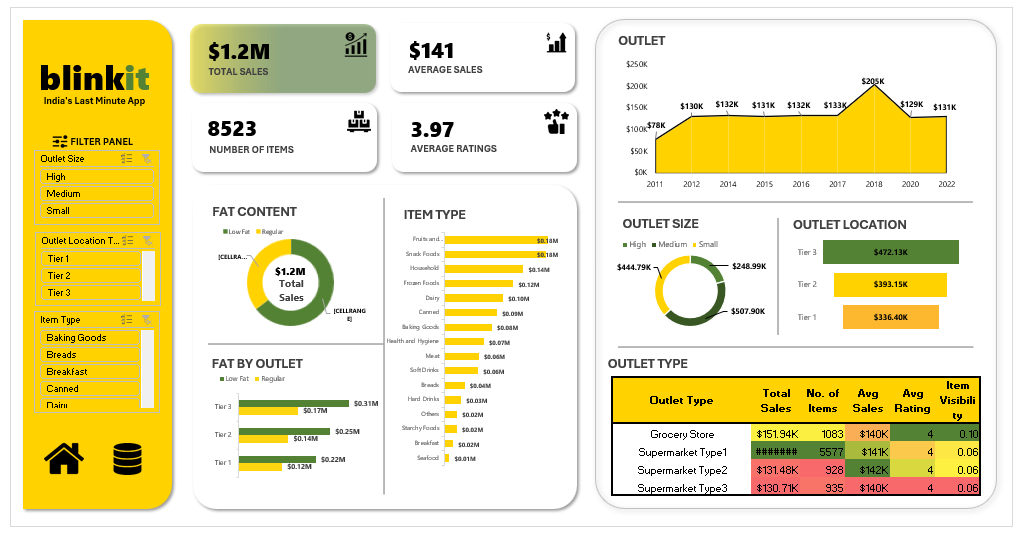

The page's visual inventory and layout, read from the dashboard file:
{"tool":"powerbi","page":{"name":"Page 1","canvas":[1280,720],"ordinal":0},"visuals":[{"type":"shape","box":[0,0,1280,720],"z":0},{"type":"shape","box":[16,20,226,680],"z":1000},{"type":"shape","box":[242,228,500,472],"z":2000},{"type":"shape","box":[242,20,250,104],"z":3000},{"type":"shape","box":[242,124,250,104],"z":4000},{"type":"shape","box":[492,20,250,104],"z":5000},{"type":"shape","box":[492,124,250,104],"z":6000},{"type":"shape","box":[742.2,20,513.3,680],"z":7000},{"type":"card","fields":{"Values":["Sum(Raw Data.Sales)"]},"box":[256.7,37.8,117.8,44.4],"z":8000},{"type":"card","fields":{"Values":["Avg(Raw Data.Sales)"]},"box":[503.3,37.8,88.9,42.2],"z":9000},{"type":"card","fields":{"Values":["CountNonNull(Raw Data.Item Visibility)"]},"box":[256.7,140,96.7,35.6],"z":10000},{"type":"card","fields":{"Values":["Avg(Raw Data.Rating)"]},"box":[503.3,135.6,70,43.3],"z":11000},{"type":"donutChart","title":"FAT CONTENT","fields":{"Category":["Raw Data.Item Fat Content"],"Y":["Sum(Raw Data.Sales)"]},"box":[250,244.2,235.8,209.2],"z":12000},{"type":"clusteredBarChart","title":"FAT BY OUTLET","fields":{"Y":["Sum(Raw Data.Sales)"],"Series":["Raw Data.Item Fat Content"],"Category":["Raw Data.Outlet Location Type"]},"box":[256.2,463.8,236.2,213.8],"z":13000},{"type":"shape","box":[243.3,456.7,250,15],"z":14000},{"type":"shape","box":[486.7,241.7,11.7,435],"z":15000},{"type":"funnel","title":"OUTLET LOCATION","fields":{"Category":["Raw Data.Outlet Location Type"],"Y":["Sum(Raw Data.Sales)"]},"box":[1006.4,269.3,240,222.1],"z":16000},{"type":"donutChart","title":"OUTLET","fields":{"Category":["Raw Data.Outlet Size"],"Y":["Sum(Raw Data.Sales)"]},"box":[765,268.6,235,215],"z":17000},{"type":"shape","box":[991.4,274.3,16.4,203.6],"z":18000},{"type":"shape","box":[774,484,448,15],"z":19000},{"type":"shape","box":[773.6,253.6,449.3,15],"z":20000},{"type":"barChart","title":"ITEM TYPE","fields":{"Y":["Sum(Raw Data.Sales)"],"Category":["Raw Data.Item Type"]},"box":[493,254,227,423],"z":21000},{"type":"areaChart","title":"OUTLET","fields":{"Y":["Sum(Raw Data.Sales)"],"Category":["Raw Data.Outlet Establishment Year"]},"box":[770,37.9,460,215.7],"z":22000},{"type":"pivotTable","title":"OUTLET TYPE","fields":{"Rows":["Raw Data.Outlet Type"],"Values":["Sum(Raw Data.Sales)","CountNonNull(Raw Data.S.No)","Avg(Raw Data.Sales)","Avg(Raw Data.Rating)","Avg(Raw Data.Item Visibility)"]},"box":[762.1,498.6,475,170],"z":23000},{"type":"textbox","box":[265.6,80,98.9,30],"z":24000},{"type":"textbox","box":[511.1,73.3,113.3,30],"z":25000},{"type":"textbox","box":[265.6,175.6,147.8,30],"z":26000},{"type":"textbox","box":[511.1,175.6,148.9,30],"z":27000},{"type":"textbox","box":[57.8,80,150,77.8],"z":28000},{"type":"textbox","box":[47.8,135.6,172.2,30],"z":29000},{"type":"textbox","box":[94.4,175.6,111.1,30],"z":30000},{"type":"advancedSlicerVisual","fields":{"Values":["Raw Data.Outlet Size"]},"box":[45.7,204.3,160,114.3],"z":31000},{"type":"advancedSlicerVisual","fields":{"Values":["Raw Data.Item Type"]},"box":[44.3,452.9,162.9,130],"z":32000},{"type":"advancedSlicerVisual","fields":{"Values":["Raw Data.Outlet Location Type"]},"box":[44.6,324.6,163.1,122.3],"z":33000},{"type":"image","box":[57.8,175.6,36.7,30],"z":34000},{"type":"image","box":[685.6,137.8,34.4,40],"z":35000},{"type":"image","box":[438.9,35.6,34.4,37.8],"z":35001},{"type":"image","box":[76.2,600,50,46.2],"z":35002},{"type":"image","box":[131.5,603.1,36.9,39.2],"z":35003},{"type":"image","box":[686,38,34,34],"z":35004},{"type":"image","box":[439,140,35,36],"z":35005}]}

Visuals, with their boxes on the page's 1280x720 design canvas (x1, y1, x2, y2). These are canvas units, not pixel positions in the 1020x536 screenshot, which may show the page scaled, cropped or inside an application window:
shape: Rect(0, 0, 1280, 720)
shape: Rect(16, 20, 242, 700)
shape: Rect(242, 228, 742, 700)
shape: Rect(242, 20, 492, 124)
shape: Rect(242, 124, 492, 228)
shape: Rect(492, 20, 742, 124)
shape: Rect(492, 124, 742, 228)
shape: Rect(742, 20, 1256, 700)
card - Sum(Raw Data.Sales): Rect(257, 38, 374, 82)
card - Avg(Raw Data.Sales): Rect(503, 38, 592, 80)
card - CountNonNull(Raw Data.Item Visibility): Rect(257, 140, 353, 176)
card - Avg(Raw Data.Rating): Rect(503, 136, 573, 179)
"FAT CONTENT" donutChart: Rect(250, 244, 486, 453)
"FAT BY OUTLET" clusteredBarChart: Rect(256, 464, 492, 678)
shape: Rect(243, 457, 493, 472)
shape: Rect(487, 242, 498, 677)
"OUTLET LOCATION" funnel: Rect(1006, 269, 1246, 491)
"OUTLET" donutChart: Rect(765, 269, 1000, 484)
shape: Rect(991, 274, 1008, 478)
shape: Rect(774, 484, 1222, 499)
shape: Rect(774, 254, 1223, 269)
"ITEM TYPE" barChart: Rect(493, 254, 720, 677)
"OUTLET" areaChart: Rect(770, 38, 1230, 254)
"OUTLET TYPE" pivotTable: Rect(762, 499, 1237, 669)
textbox: Rect(266, 80, 364, 110)
textbox: Rect(511, 73, 624, 103)
textbox: Rect(266, 176, 413, 206)
textbox: Rect(511, 176, 660, 206)
textbox: Rect(58, 80, 208, 158)
textbox: Rect(48, 136, 220, 166)
textbox: Rect(94, 176, 206, 206)
advancedSlicerVisual - Raw Data.Outlet Size: Rect(46, 204, 206, 319)
advancedSlicerVisual - Raw Data.Item Type: Rect(44, 453, 207, 583)
advancedSlicerVisual - Raw Data.Outlet Location Type: Rect(45, 325, 208, 447)
image: Rect(58, 176, 94, 206)
image: Rect(686, 138, 720, 178)
image: Rect(439, 36, 473, 73)
image: Rect(76, 600, 126, 646)
image: Rect(132, 603, 168, 642)
image: Rect(686, 38, 720, 72)
image: Rect(439, 140, 474, 176)
